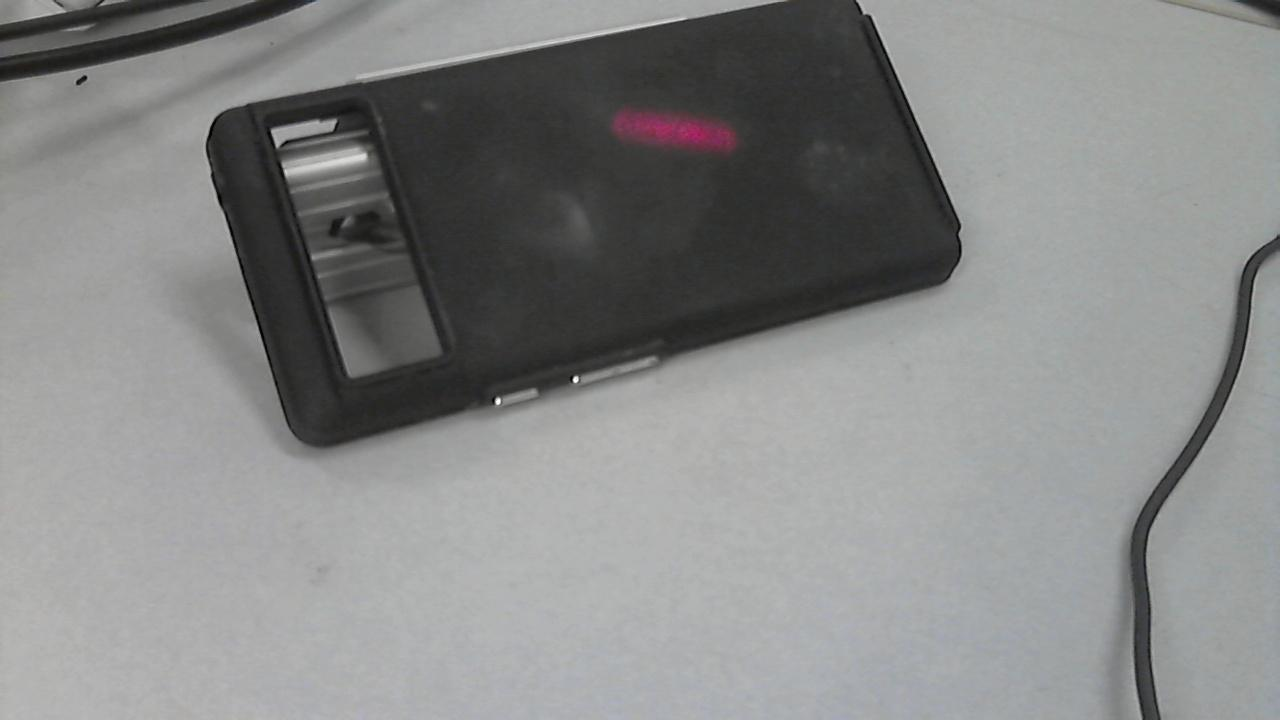Object protective phone case - Material plastic - Pdfname asdfeafgta: (592, 98, 767, 167)
